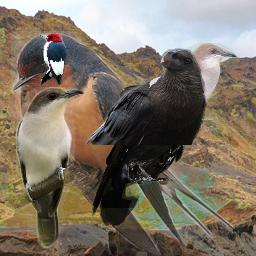Crow: (92, 83, 186, 228), (83, 47, 209, 145)
Cuckoo: (107, 43, 239, 197), (16, 87, 85, 249)
Swallow: (11, 31, 233, 256)
Woodpecker: (39, 31, 67, 87)
